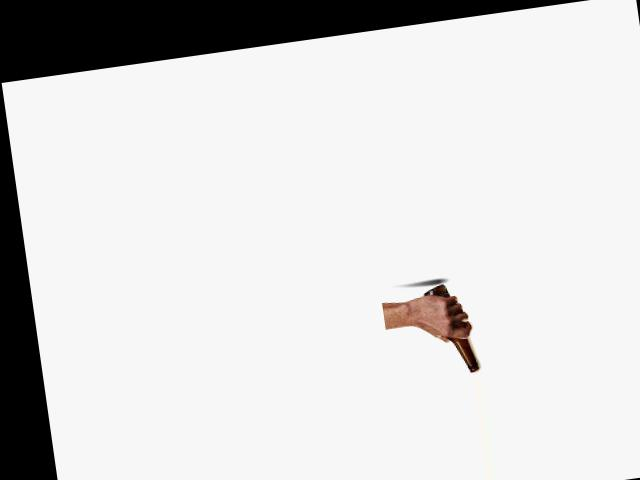beer: (423, 279, 480, 376)
